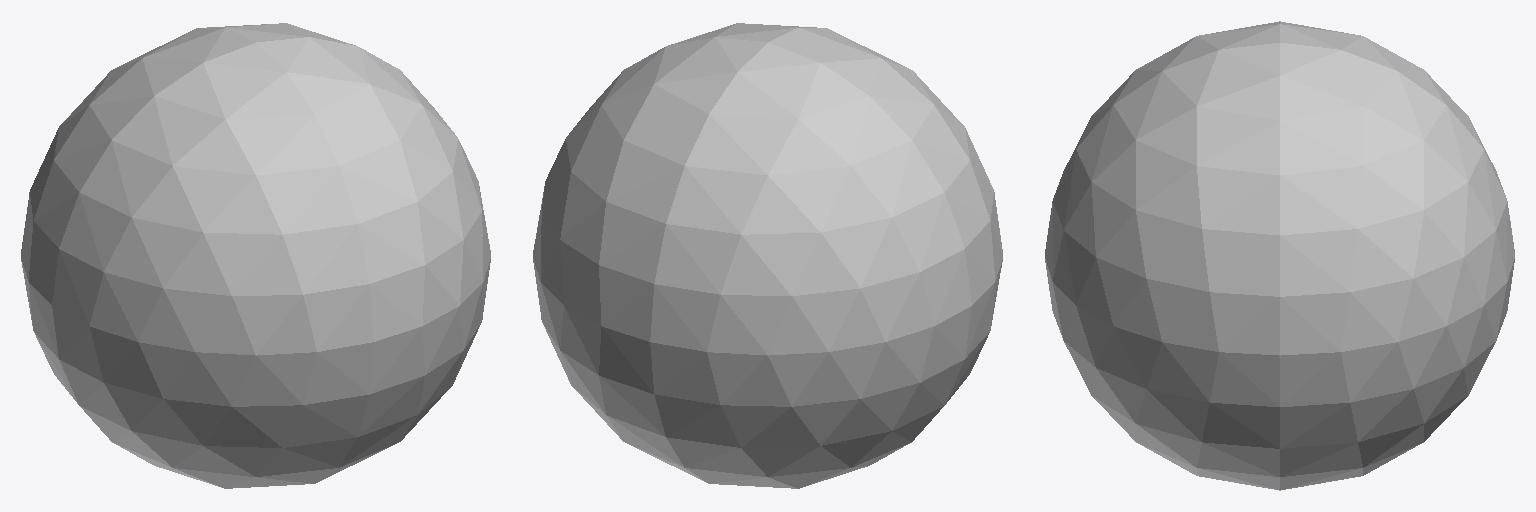
File: Cray_left.obj
3 renders of one model, left to right at view 1: azimuth 30°, elevation 25°; view 2: azimuth 150°, elevation 25°; view 3: azimuth 270°, elevation 25°, orthographic.
Bounding box in the file's own units: 50800 × 50800 × 50800.